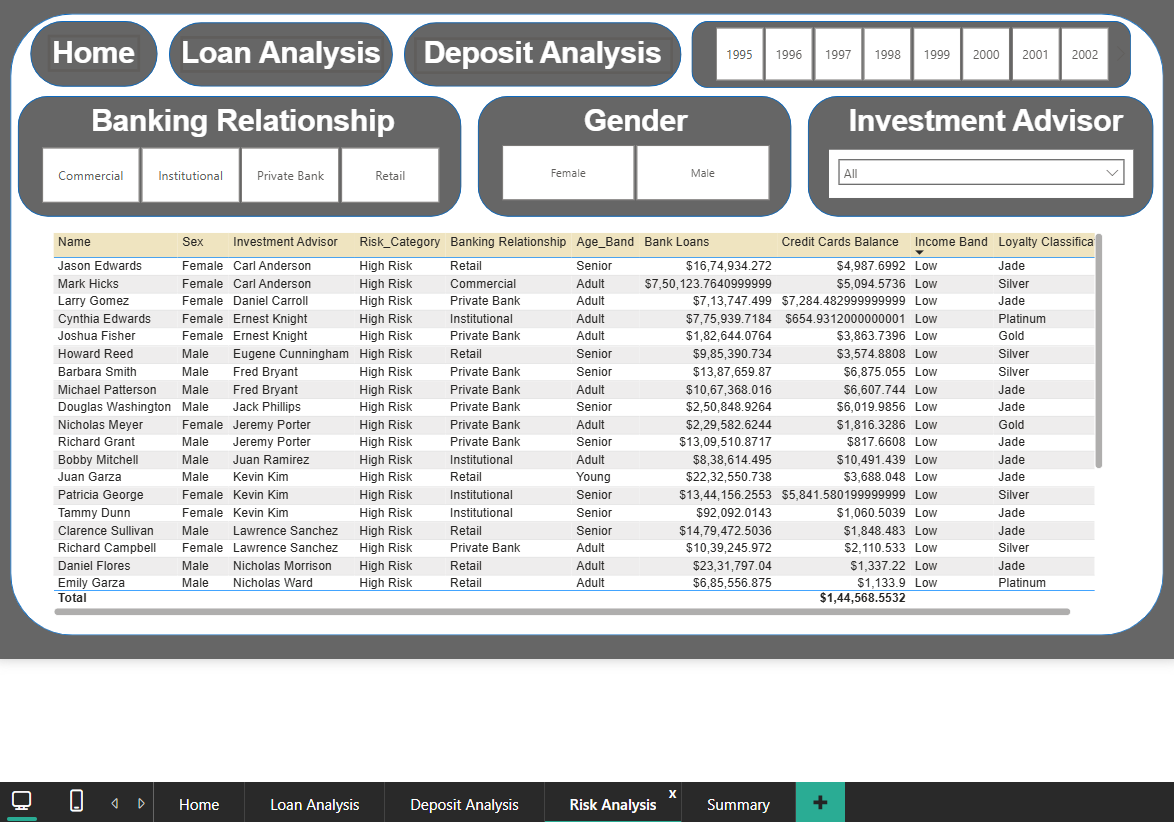

This screenshot's page, from the dashboard's own definition file:
{"tool":"powerbi","page":{"name":"Risk Analysis","canvas":[1280,720],"ordinal":3},"visuals":[{"type":"shape","box":[17,24.1,1243.4,670.6],"z":0},{"type":"shape","box":[189.3,33.2,241.3,69.4],"z":1000},{"type":"textbox","box":[189.3,44.8,241.3,65],"z":2000},{"type":"shape","box":[442.2,33.2,299.1,69.4],"z":3000},{"type":"textbox","box":[442.2,44.8,299.1,72.3],"z":4000},{"type":"shape","box":[39,31.8,137.3,70.8],"z":5000},{"type":"textbox","box":[46.2,44.8,122.8,78],"z":6000},{"type":"shape","box":[751.4,31.8,474,72.3],"z":7000},{"type":"shape","box":[521.7,112.7,338.1,130.1],"z":8000},{"type":"slicer","fields":{"Values":["Sheet1.Joined Bank.Variation.Date Hierarchy.Year"]},"box":[751.4,31.8,474,70.8],"z":13000},{"type":"slicer","fields":{"Values":["Sheet1.Sex"]},"box":[521.7,159,338.1,73.7],"z":14000},{"type":"textbox","box":[630,117,135.8,62.1],"z":15000},{"type":"shape","box":[26,112.7,478.3,130.1],"z":23000},{"type":"slicer","fields":{"Values":["Sheet1.Banking Relationship"]},"box":[26,161.8,478.3,73.7],"z":24000},{"type":"textbox","box":[99.7,117,404.6,78],"z":25000},{"type":"shape","box":[877.1,112.7,372.8,130.1],"z":26000},{"type":"textbox","box":[916.1,117,325.1,59.2],"z":27000},{"type":"slicer","fields":{"Values":["investment-advisiors.Investment Advisor"]},"box":[900.3,170.5,328,52],"z":28000},{"type":"actionButton","box":[58.3,47.4,99.6,40.1],"z":30000},{"type":"actionButton","box":[201.3,48.2,219.8,39.7],"z":55000},{"type":"actionButton","box":[452.3,49.6,279.3,39.7],"z":56000},{"type":"tableEx","fields":{"Values":["Sheet1.Name","Sheet1.Sex","investment-advisiors.Investment Advisor","Sheet1.Risk_Category","Sheet1.Banking Relationship","Sheet1.Age_Band","Sheet1.Bank Loans","Measure.Credit Cards Balance","Sheet1.Income Band","Sheet1.Loyalty Classification"]},"box":[58.1,256.6,1142.8,422.5],"z":56001}]}

Visuals, with their boxes on the page's 1280x720 design canvas (x1, y1, x2, y2). These are canvas units, not pixel positions in the 1174x822 screenshot, which may show the page scaled, cropped or inside an application window:
shape: {"left": 17, "top": 24, "right": 1260, "bottom": 695}
shape: {"left": 189, "top": 33, "right": 431, "bottom": 103}
textbox: {"left": 189, "top": 45, "right": 431, "bottom": 110}
shape: {"left": 442, "top": 33, "right": 741, "bottom": 103}
textbox: {"left": 442, "top": 45, "right": 741, "bottom": 117}
shape: {"left": 39, "top": 32, "right": 176, "bottom": 103}
textbox: {"left": 46, "top": 45, "right": 169, "bottom": 123}
shape: {"left": 751, "top": 32, "right": 1225, "bottom": 104}
shape: {"left": 522, "top": 113, "right": 860, "bottom": 243}
slicer - Sheet1.Joined Bank.Variation.Date Hierarchy.Year: {"left": 751, "top": 32, "right": 1225, "bottom": 103}
slicer - Sheet1.Sex: {"left": 522, "top": 159, "right": 860, "bottom": 233}
textbox: {"left": 630, "top": 117, "right": 766, "bottom": 179}
shape: {"left": 26, "top": 113, "right": 504, "bottom": 243}
slicer - Sheet1.Banking Relationship: {"left": 26, "top": 162, "right": 504, "bottom": 236}
textbox: {"left": 100, "top": 117, "right": 504, "bottom": 195}
shape: {"left": 877, "top": 113, "right": 1250, "bottom": 243}
textbox: {"left": 916, "top": 117, "right": 1241, "bottom": 176}
slicer - investment-advisiors.Investment Advisor: {"left": 900, "top": 170, "right": 1228, "bottom": 222}
actionButton: {"left": 58, "top": 47, "right": 158, "bottom": 88}
actionButton: {"left": 201, "top": 48, "right": 421, "bottom": 88}
actionButton: {"left": 452, "top": 50, "right": 732, "bottom": 89}
tableEx - Sheet1.Name x Sheet1.Sex: {"left": 58, "top": 257, "right": 1201, "bottom": 679}
